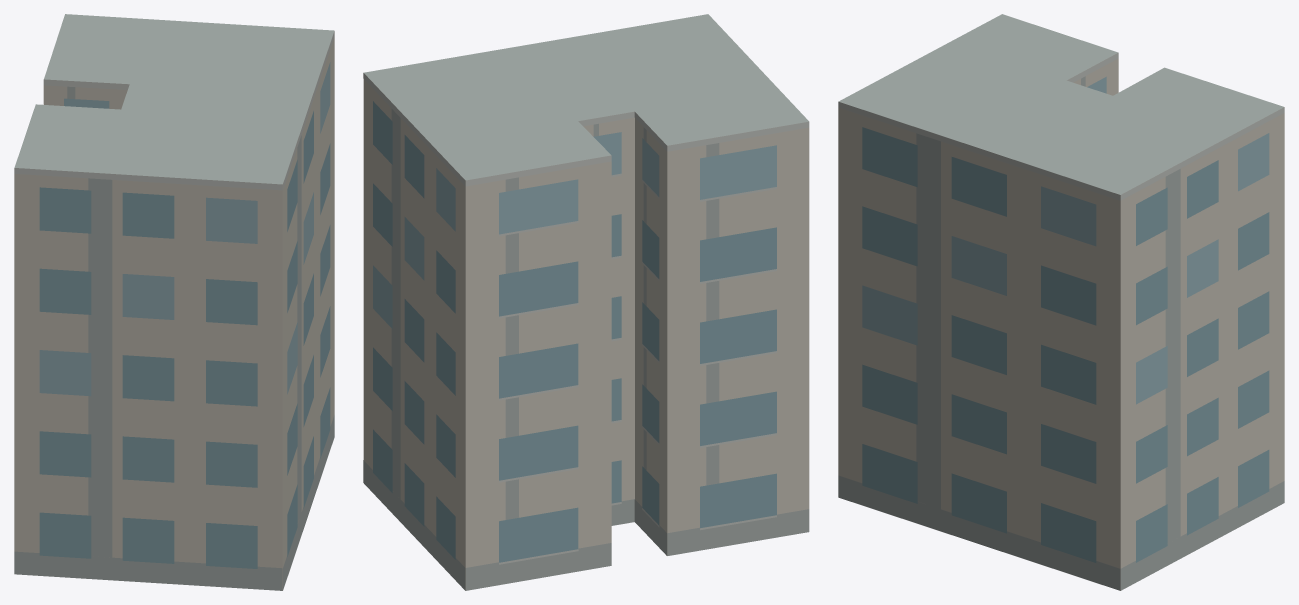
Rendered from survey-upis-32890917.glb.
3 renders of one model, left to right at view 1: azimuth 30°, elevation 25°; view 2: azimuth 150°, elevation 25°; view 3: azimuth 270°, elevation 25°, orthographic. The views are drawn at different scales.
Visible parts, largest first — view 1: survey-upis-32890917.tmp; view 2: survey-upis-32890917.tmp; view 3: survey-upis-32890917.tmp.
Part boxes in pixels (x1,y1,x2,y2): survey-upis-32890917.tmp: [14, 14, 334, 590]; survey-upis-32890917.tmp: [363, 14, 809, 590]; survey-upis-32890917.tmp: [838, 14, 1284, 590].
Size of the model in its own units: 16.29 by 16.6 by 16.97.
